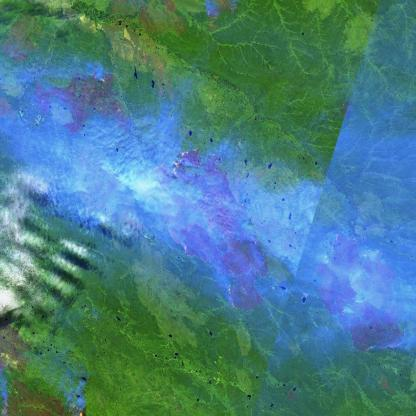fire: (141, 138, 276, 314), (88, 64, 113, 98)
